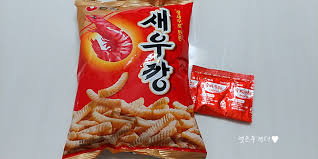snack1: (61, 1, 207, 159)
